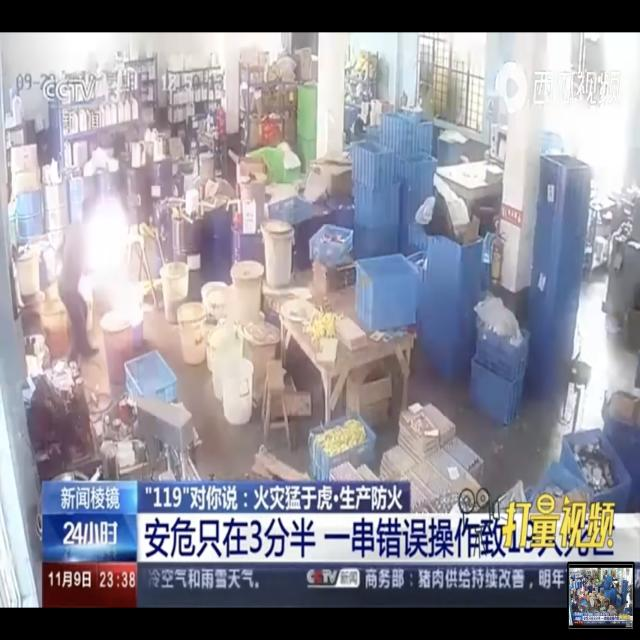Fogo: (63, 189, 172, 353)
